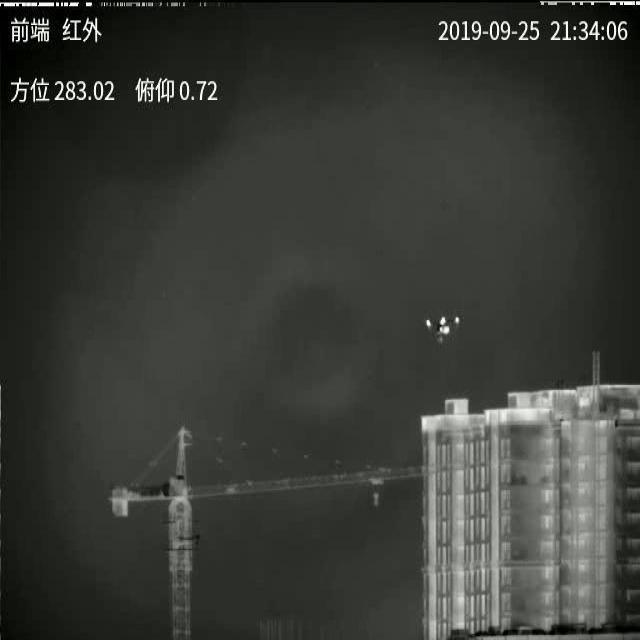drone: (436, 316, 460, 343), (425, 319, 439, 329)
